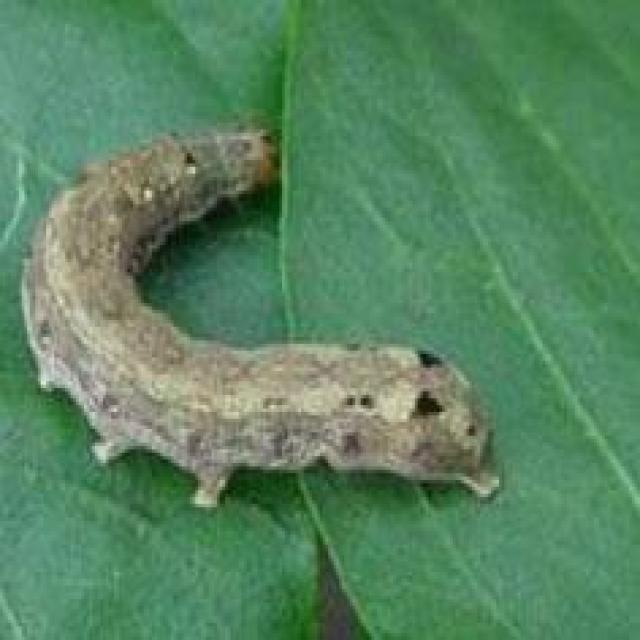BeetArmyWorm-Larva-: (18, 110, 506, 531)
